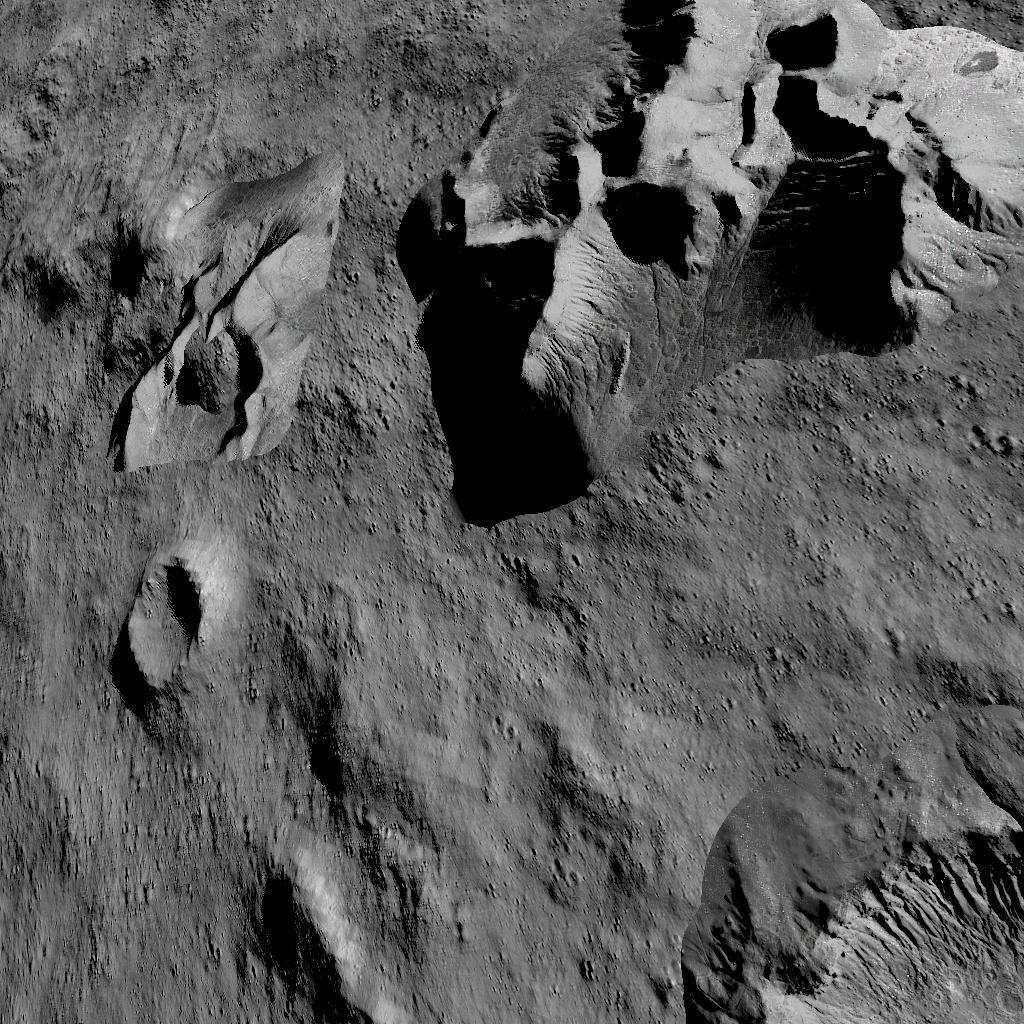Boulders: (395, 0, 1024, 529), (55, 150, 347, 473)
Crater: (684, 779, 1024, 1024), (115, 540, 221, 714)
Plan surface: (401, 540, 1024, 768), (1, 726, 237, 1024), (401, 776, 672, 1024), (3, 0, 381, 140)
